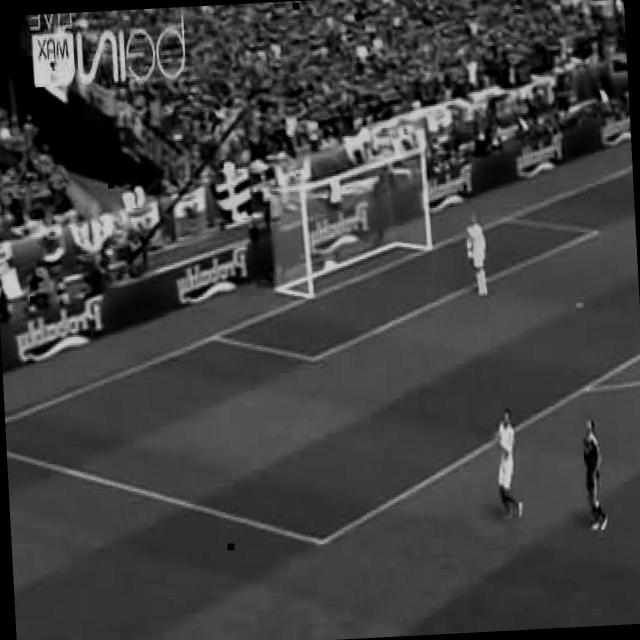player-white: (491, 407, 524, 521), (580, 416, 610, 533), (462, 212, 490, 300)
